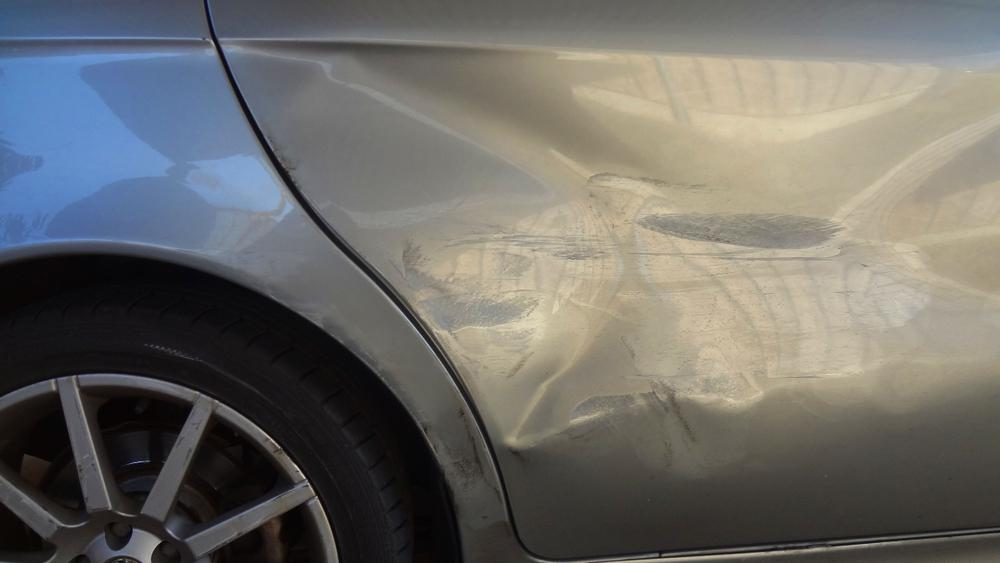dent: (328, 39, 1000, 469)
scratch: (411, 404, 505, 524)
